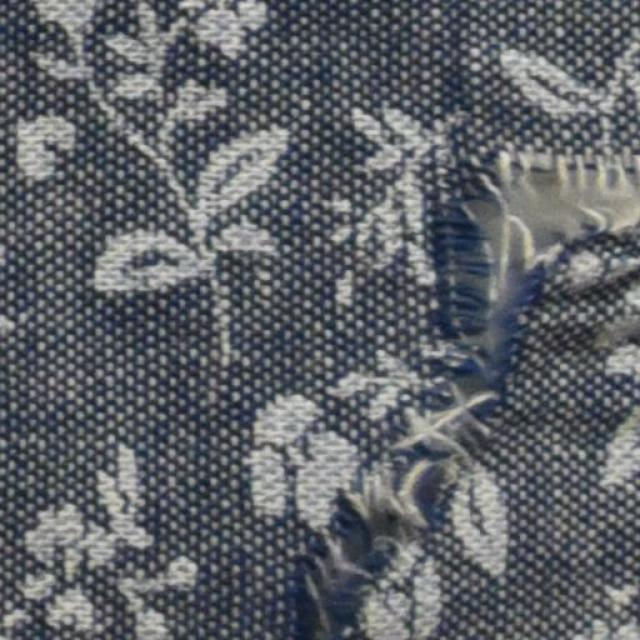Hole: (477, 173, 637, 263)
Snag: (291, 378, 506, 639), (417, 160, 549, 393)
